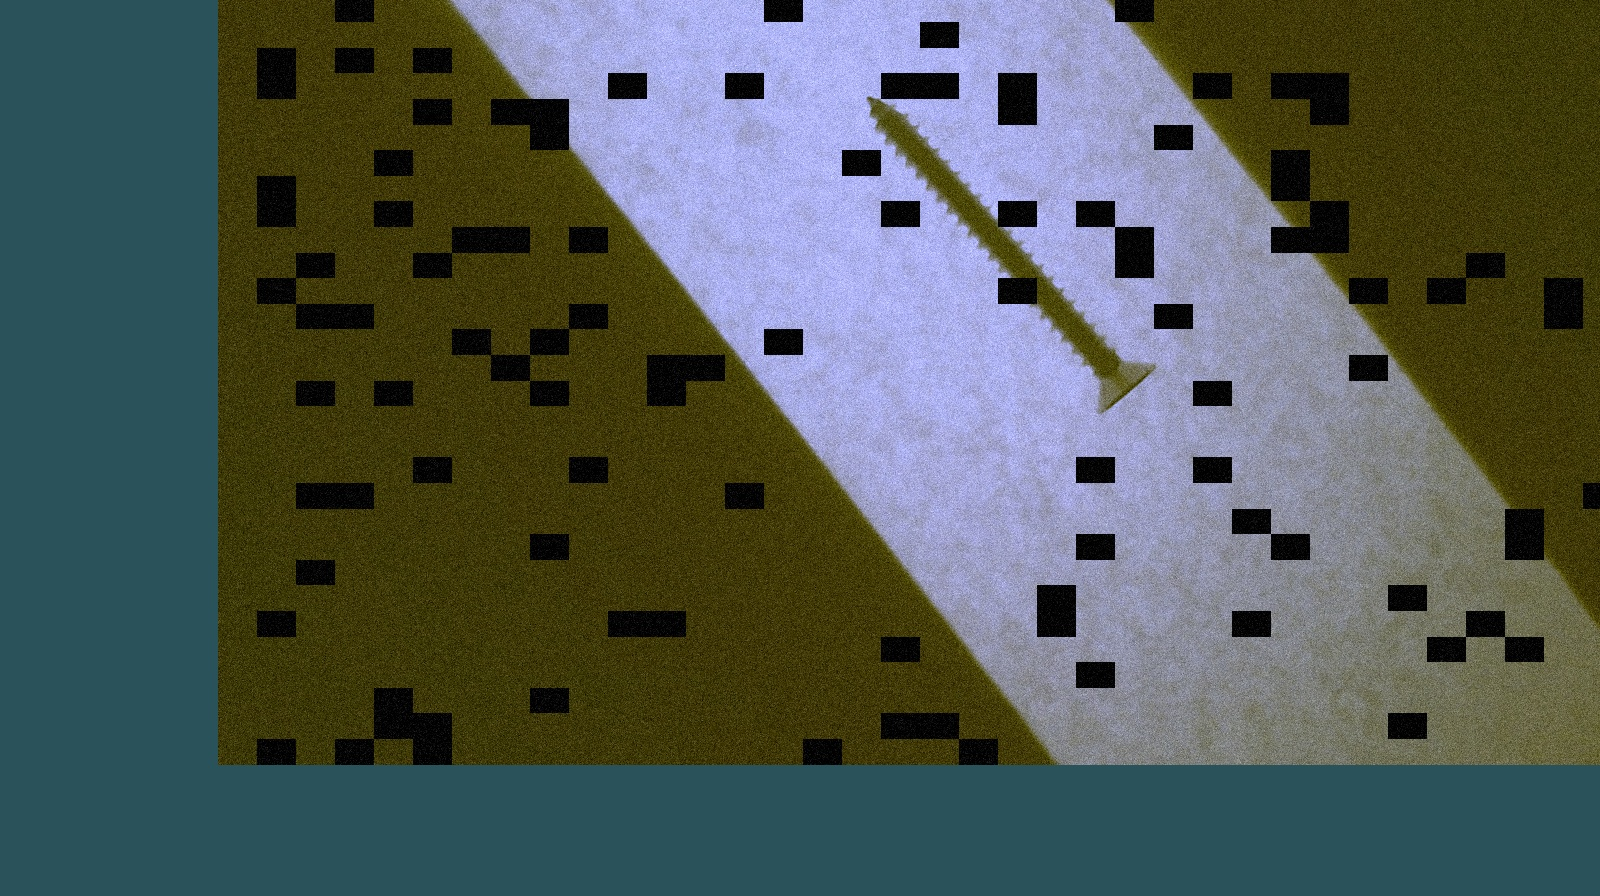S002: (849, 86, 1163, 423)
